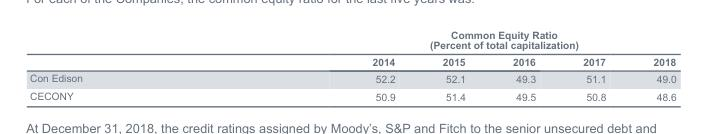table: (29, 28, 675, 102)
table column: (29, 28, 226, 102), (226, 28, 418, 102), (418, 28, 488, 102), (488, 28, 558, 102), (558, 28, 628, 102), (628, 28, 675, 102)
table column header: (29, 28, 675, 69)
table row: (29, 28, 675, 52), (29, 52, 675, 69), (29, 69, 675, 86), (29, 86, 675, 102)
table spanning cell: (226, 28, 675, 52)
